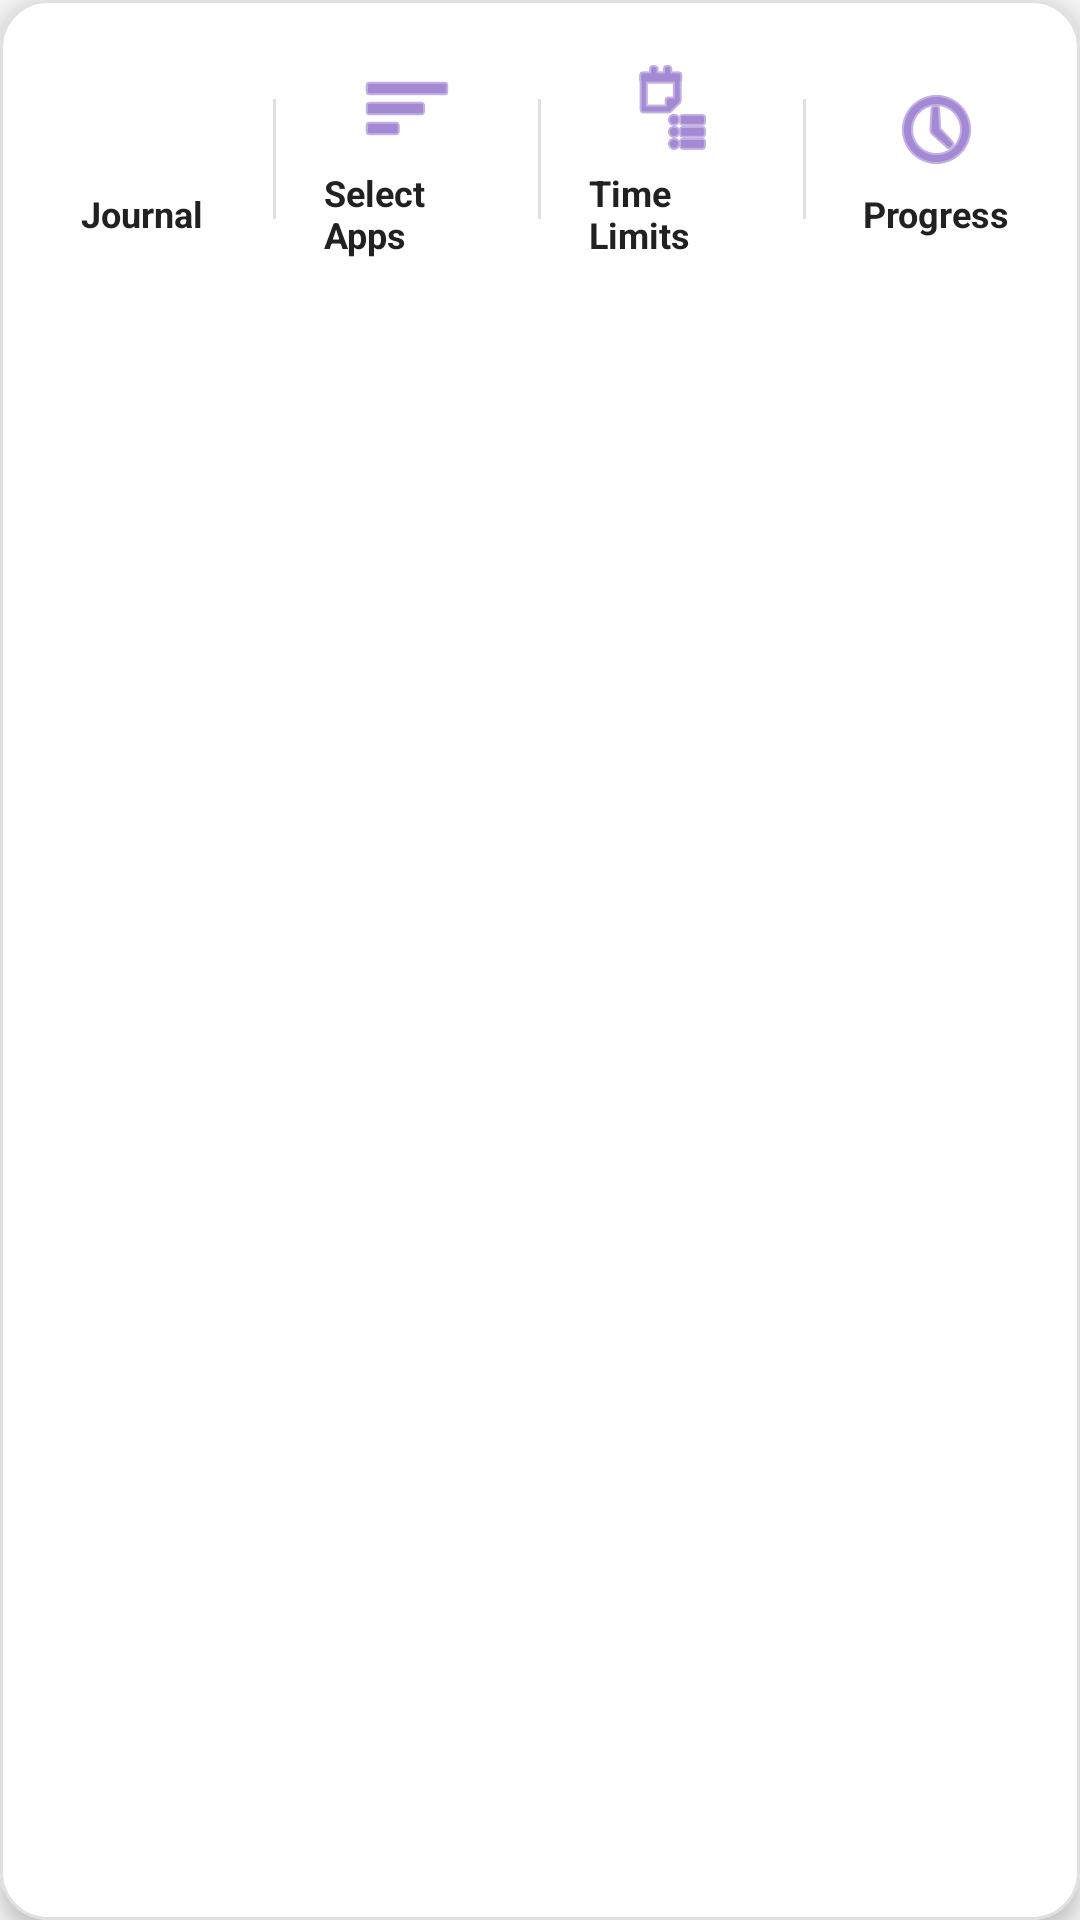

Icon bounding boxes for this 1080px x 1920px phone screenshot, format (x1, y1, x2, y2):
agenda: (639, 65, 706, 150)
recent history: (902, 95, 971, 164)
sort by size: (366, 82, 448, 135)
